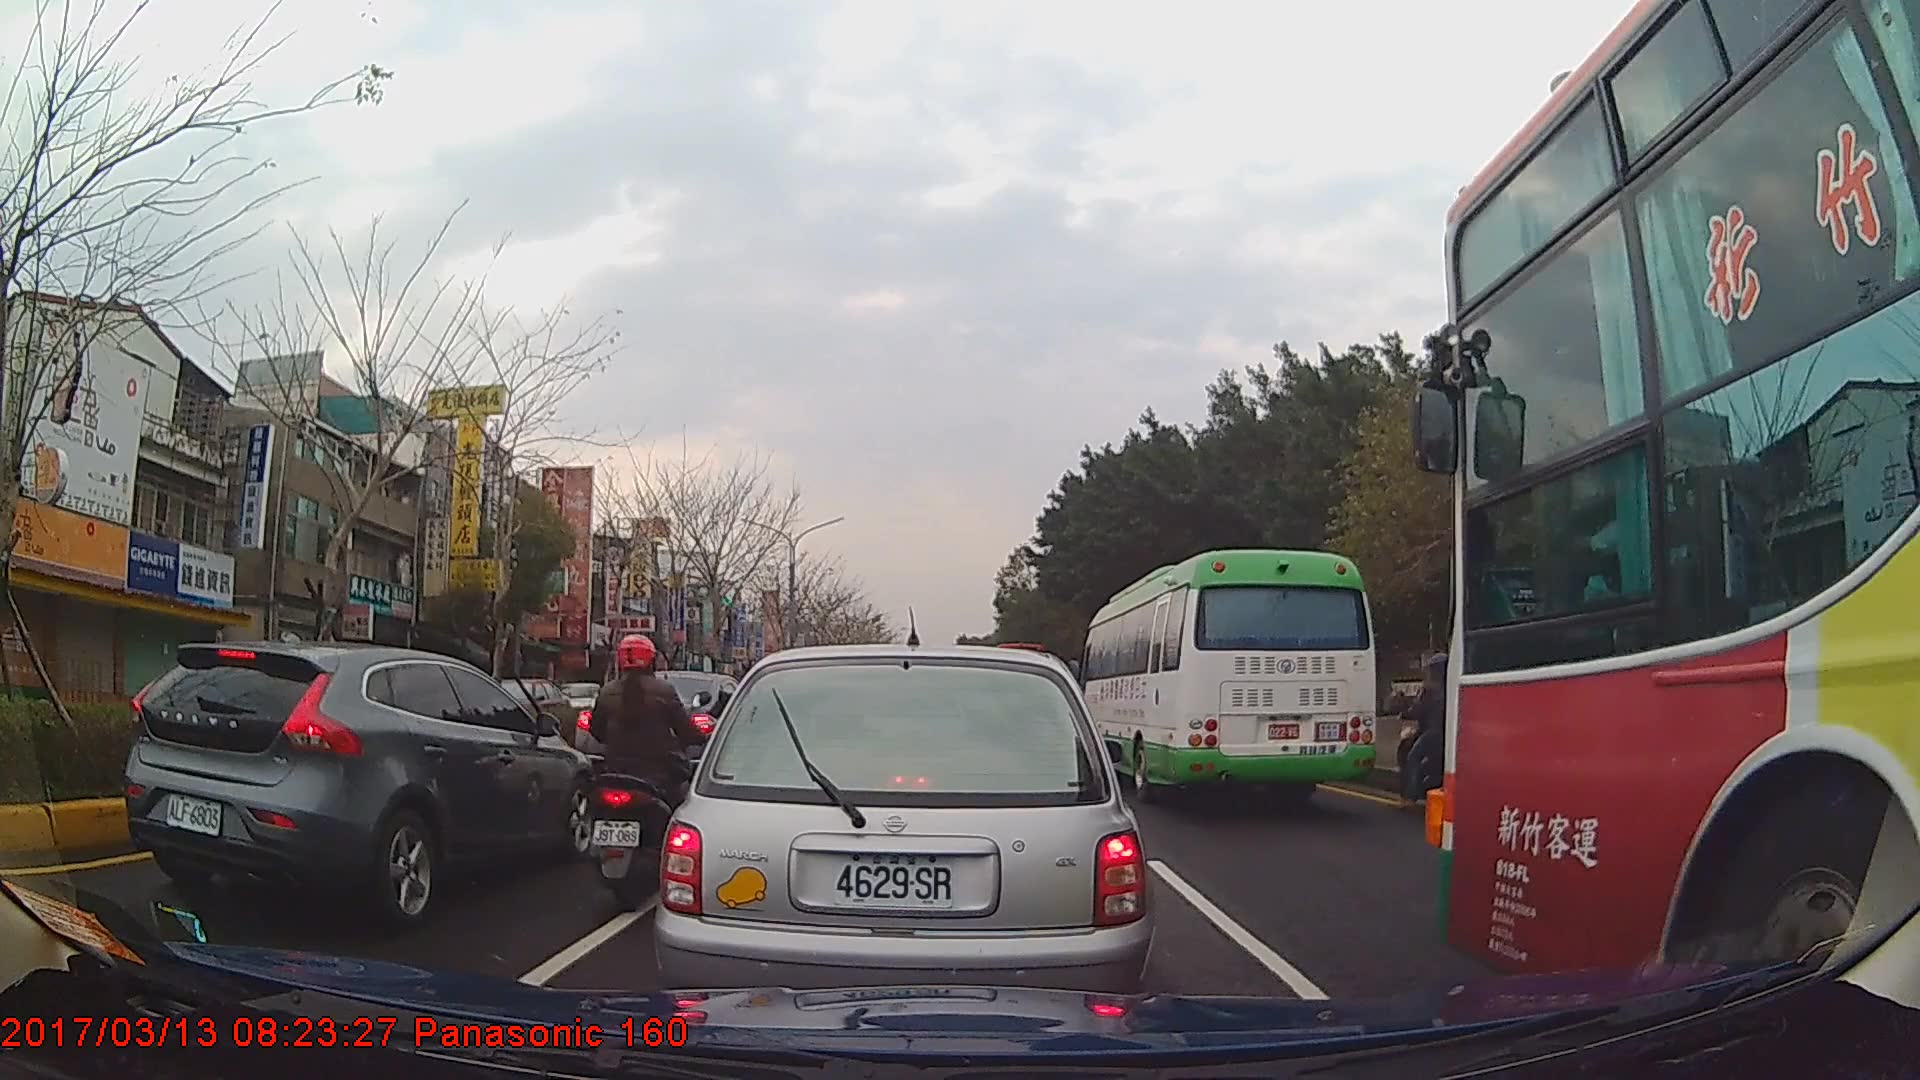rider: (586, 630, 712, 901), (1397, 654, 1486, 810)
vehicle: (1435, 0, 1920, 1028), (658, 642, 1156, 1042), (119, 642, 598, 922), (1077, 546, 1376, 805), (580, 668, 759, 787), (474, 677, 570, 732)
